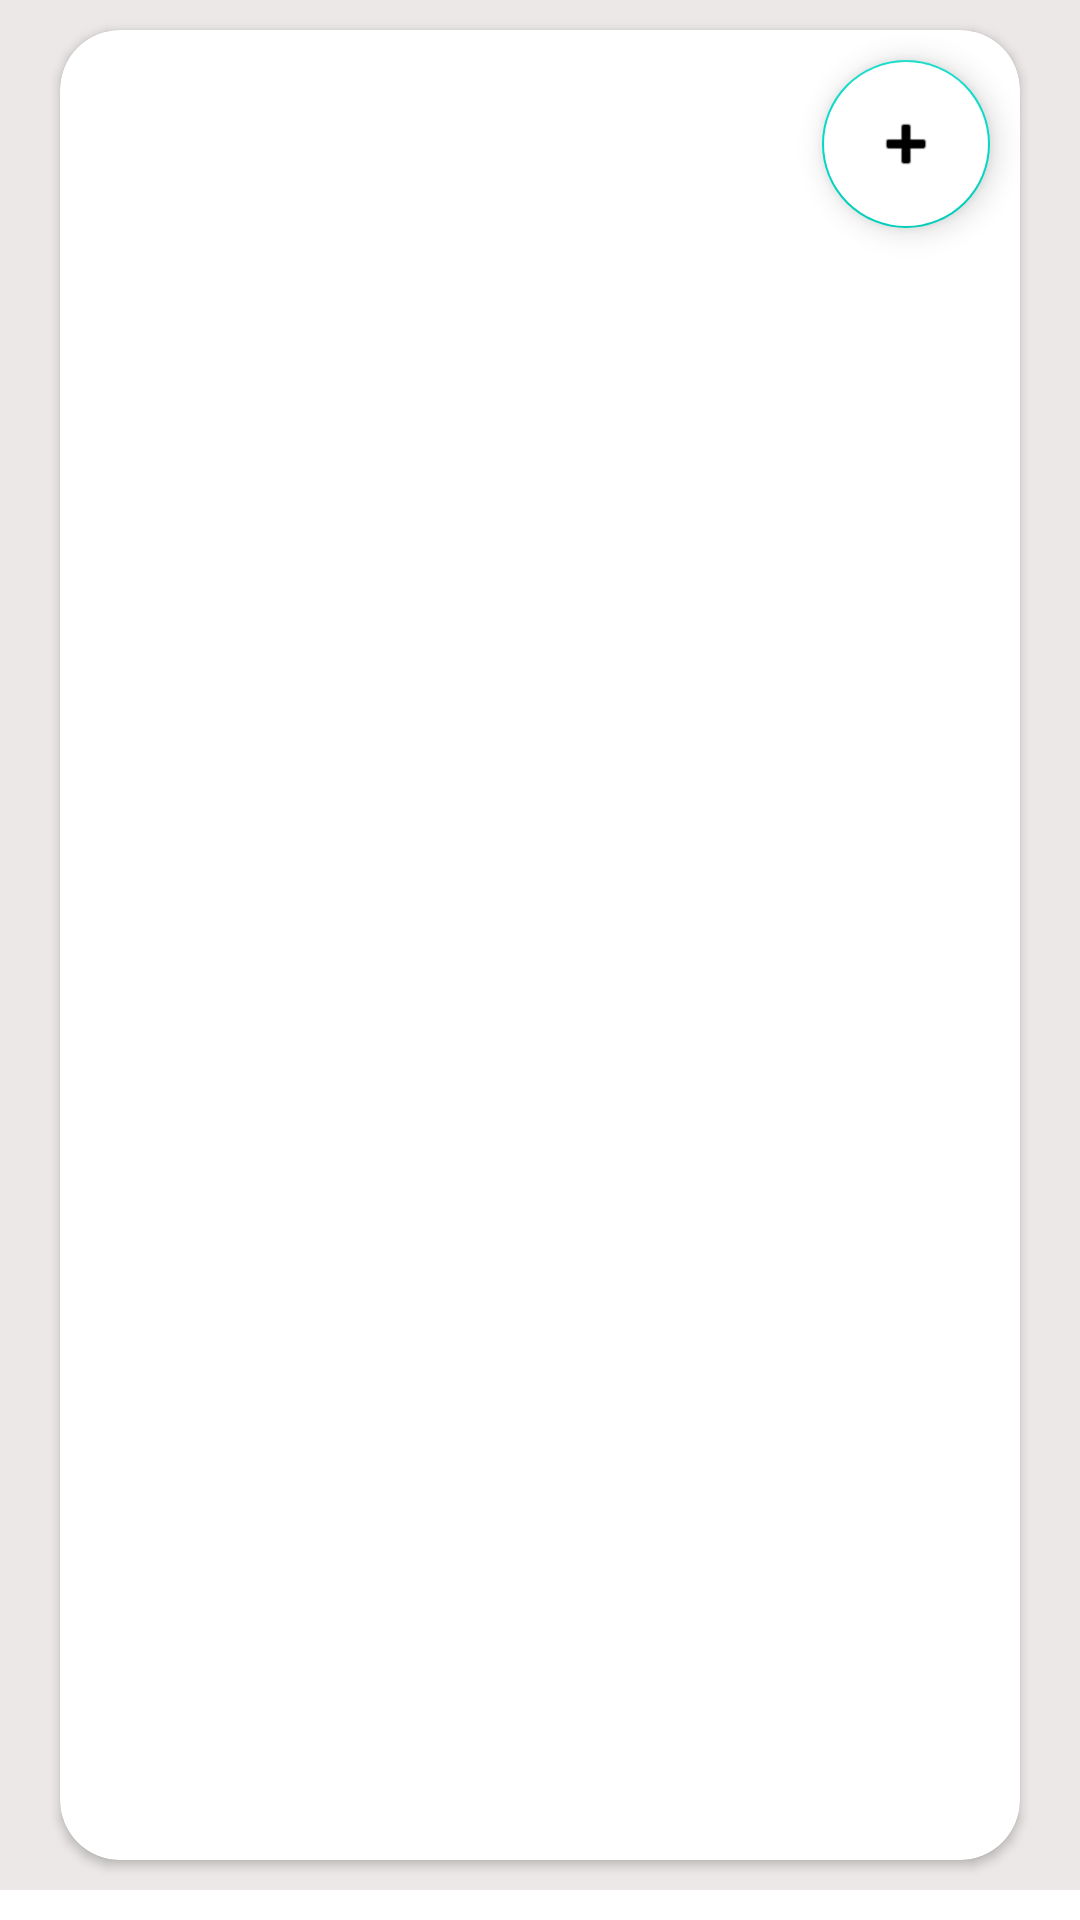

Icon click points for this 1080*1920 phone screenshot, format (x,y):
add: (906,144)
